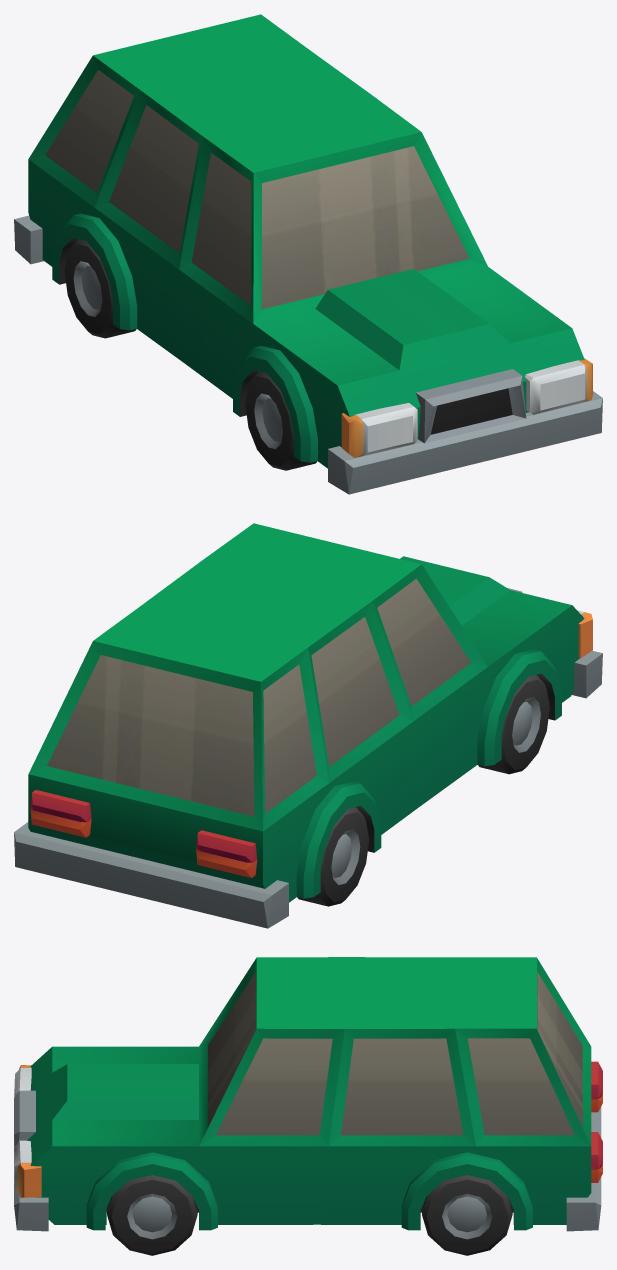
File: kaykit-car-stationwagon.glb
The picture shows the model from 3 angles, top to bottom: view 1: azimuth 30°, elevation 25°; view 2: azimuth 150°, elevation 25°; view 3: azimuth 270°, elevation 25°; orthographic projection. The views are drawn at different scales.
Visible parts, largest first — view 1: car_stationwagon; view 2: car_stationwagon; view 3: car_stationwagon.
Part boxes in pixels (<box>): car_stationwagon: <box>14,14,602,494</box>; car_stationwagon: <box>14,523,602,928</box>; car_stationwagon: <box>14,957,602,1255</box>.
Bounding box in the file's own units: 0.4189 × 0.3688 × 0.9381.
Materials: 1 (1 with a texture image).
